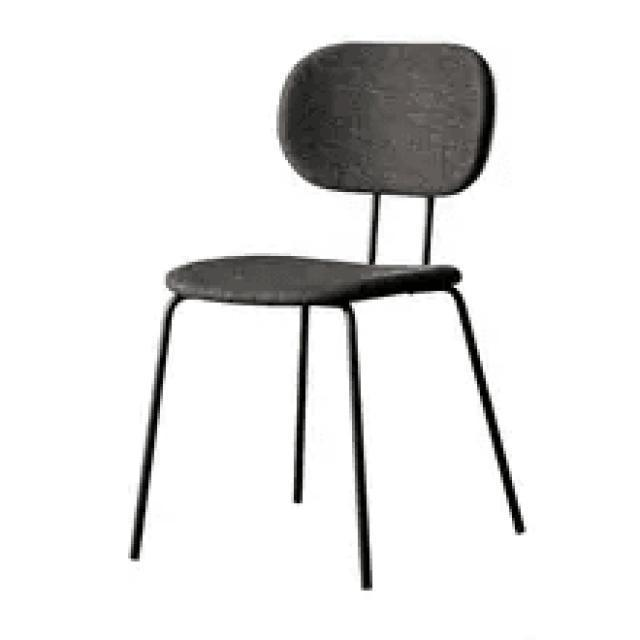chair: (123, 34, 529, 596), (147, 32, 510, 292)
